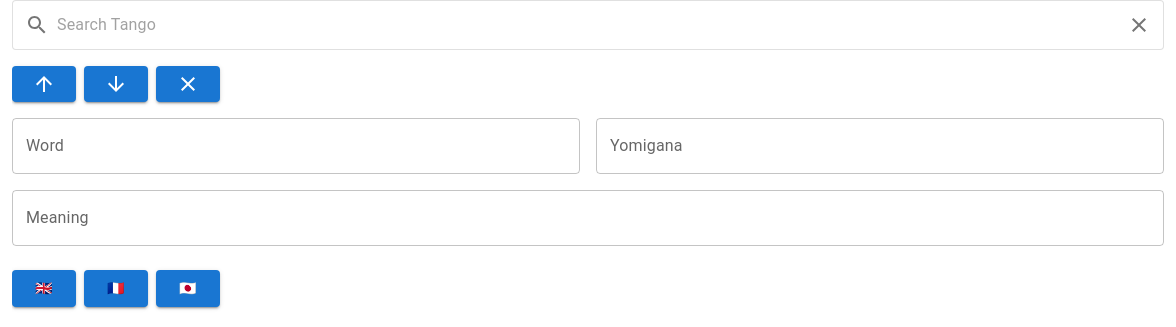
Test case: move down then clear
In the field with placeholder "Search Tango": (588, 25) [57,9,1119,41], type "aaa"
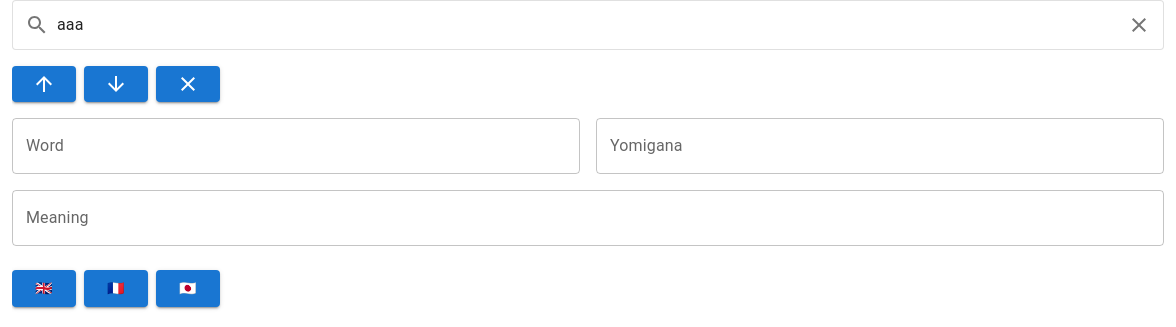
Click the button named "from search": (116, 84) [84,66,148,102]
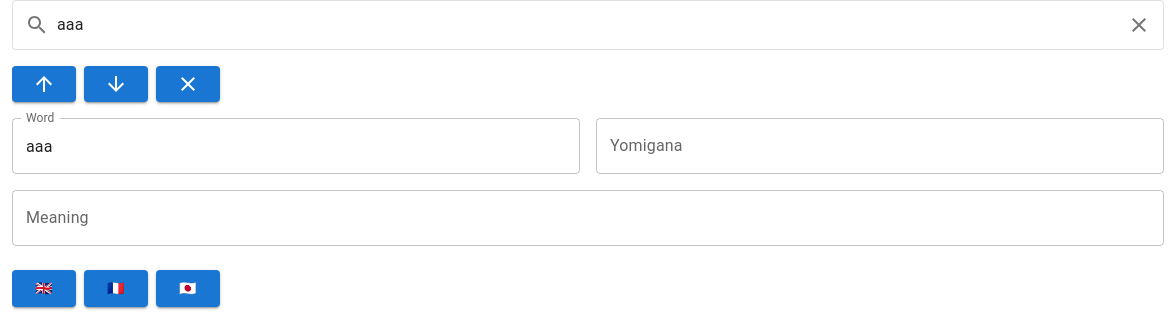
Expected: the field labelled "Yomigana" is empty, [596,118,1164,174]
Result: the field labelled "Word" holds "aaa" at [12,118,580,174]
Click the button named "clear all": (188, 84) [156,66,220,102]
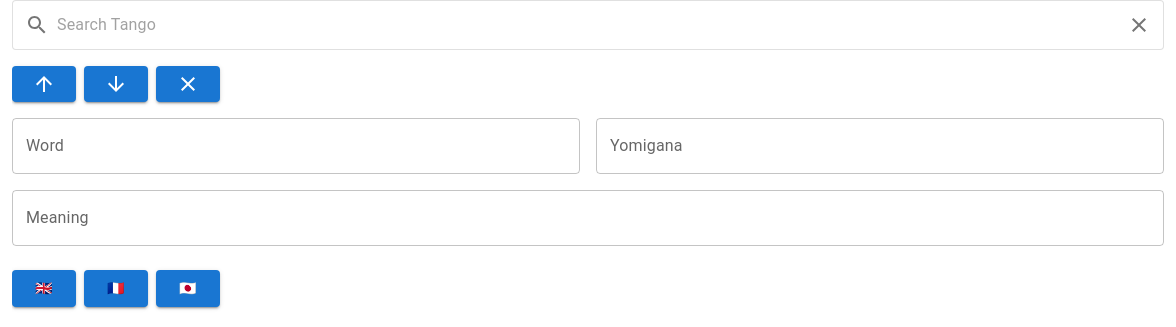
Expected: the field labelled "Yomigana" is empty, [596,118,1164,174]
Result: the field labelled "Word" is empty at [12,118,580,174]
Result: the field with placeholder "Search Tango" is empty at [57,9,1119,41]
